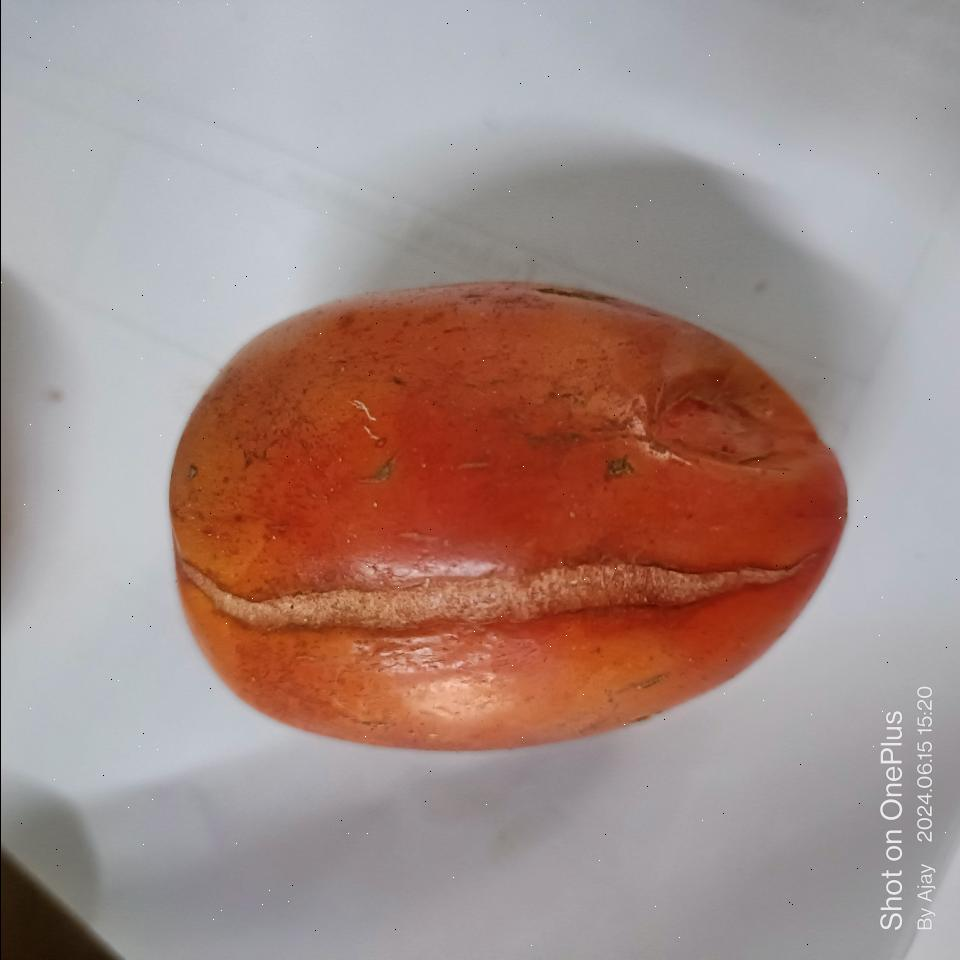Cracking: (170, 543, 795, 633)
